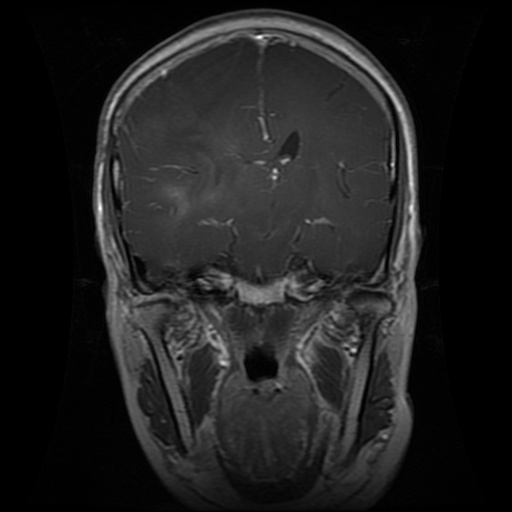glioma: (161, 137, 226, 220)
